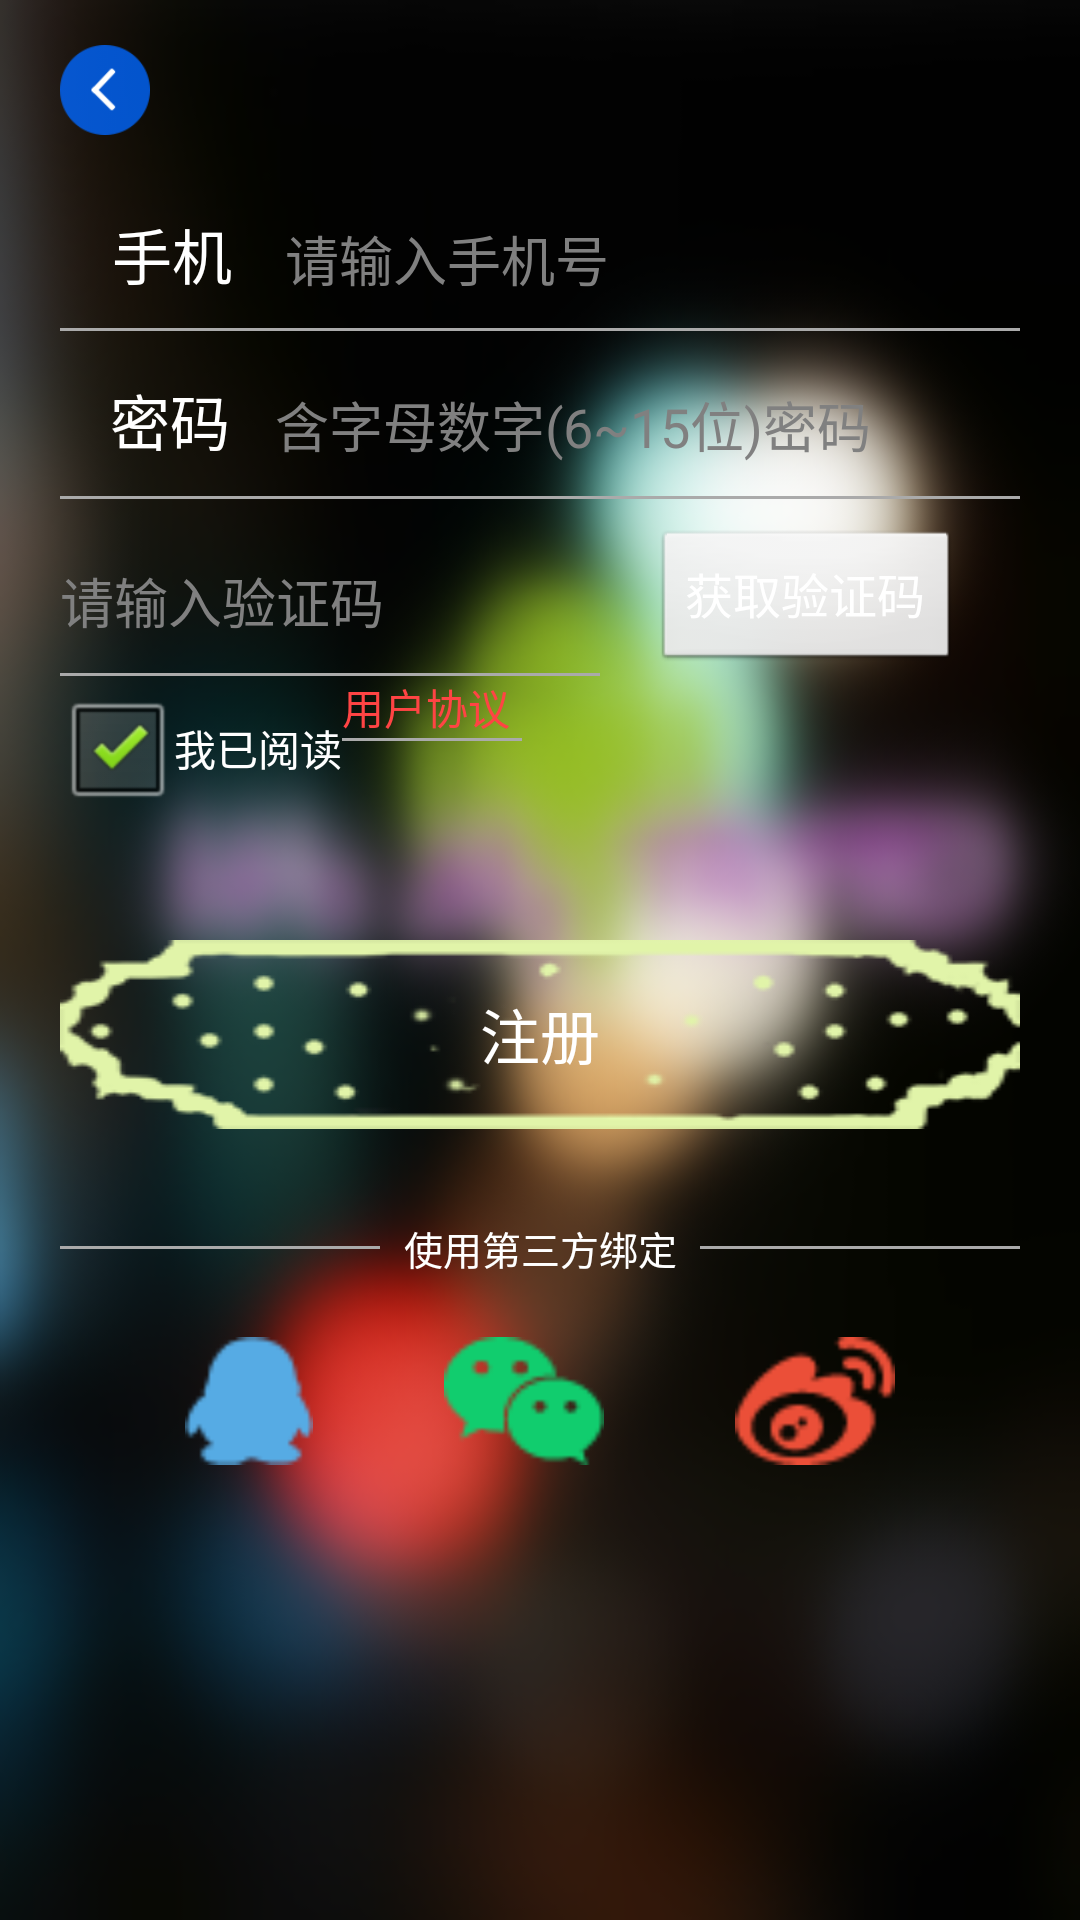

Screen size 1080x1920. Icon name, then its center in pixels as point (x, y):
return float: point (105, 90)
